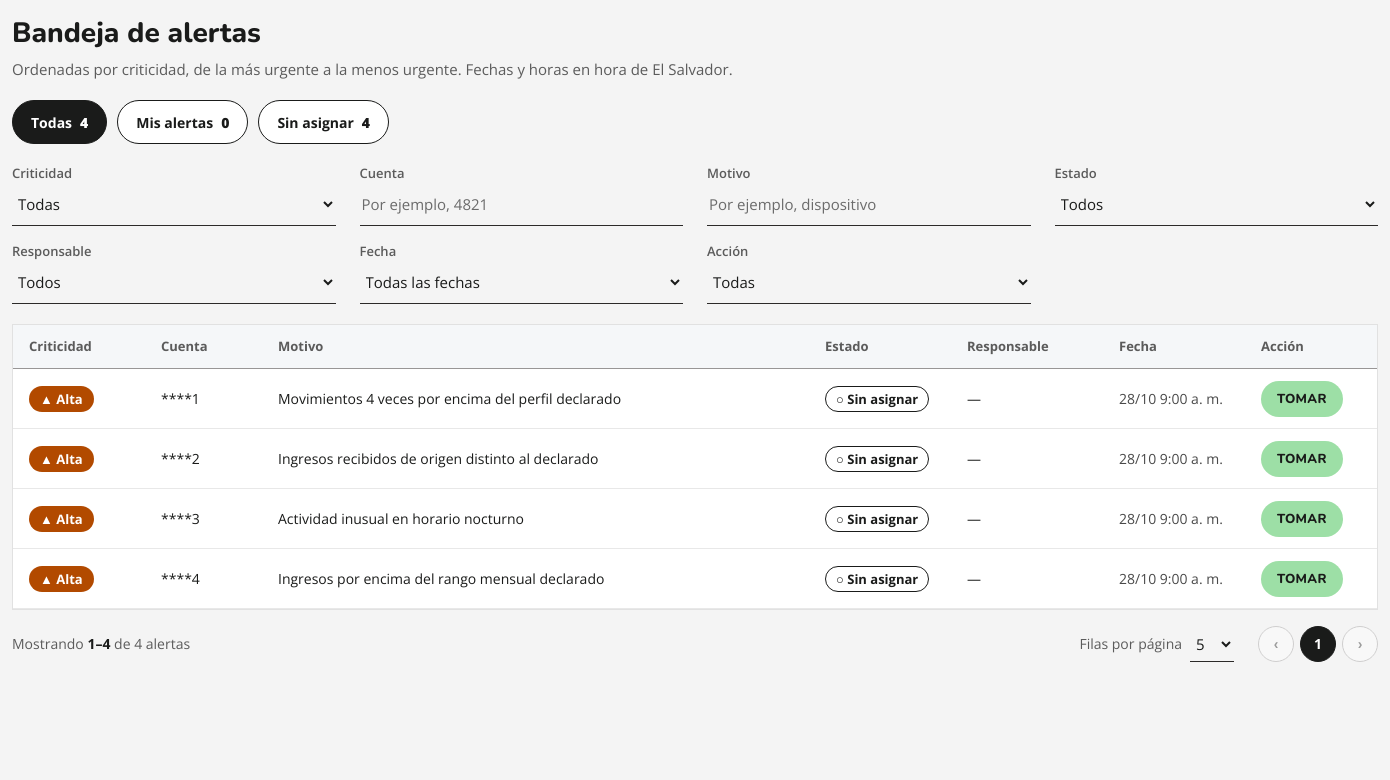
Test: vista previa de la alerta (VDI-138) › una alerta de perfil sin evidencia (0) dice de qué trata y que falta el detalle
Click the button "▲ Alta" next to "****1".
click(61, 398)  # box [29,386,94,412]
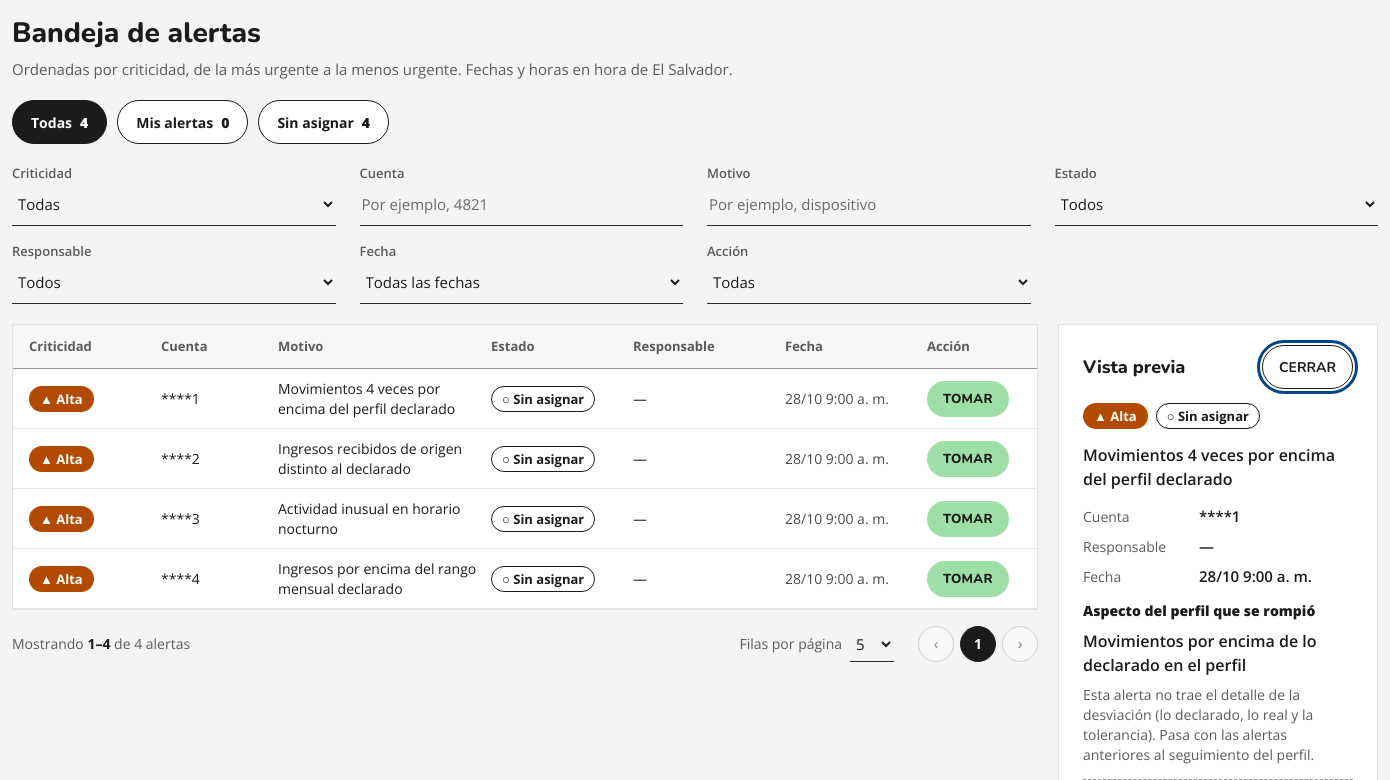
Expected: the text "Movimientos por encima de lo declarado en el perfil" is shown, [1083,629,1353,677]
Expected: the text "no trae el detalle de la desviación" is shown, [1083,685,1314,764]
